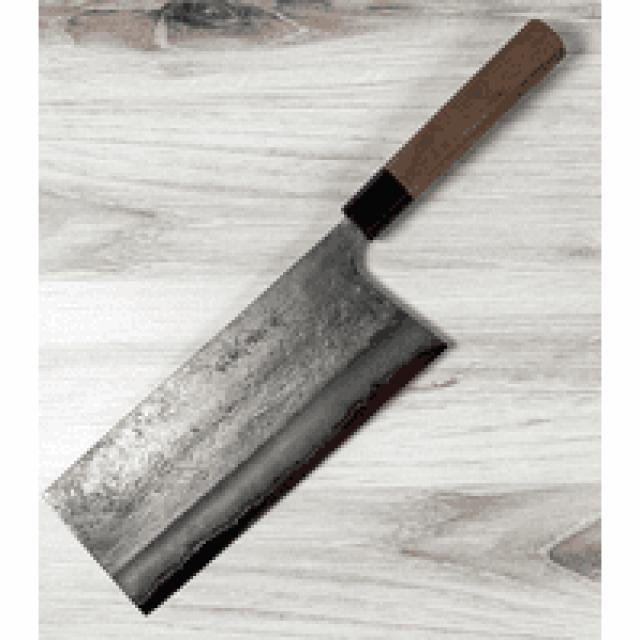cleaver: (46, 17, 562, 610)
